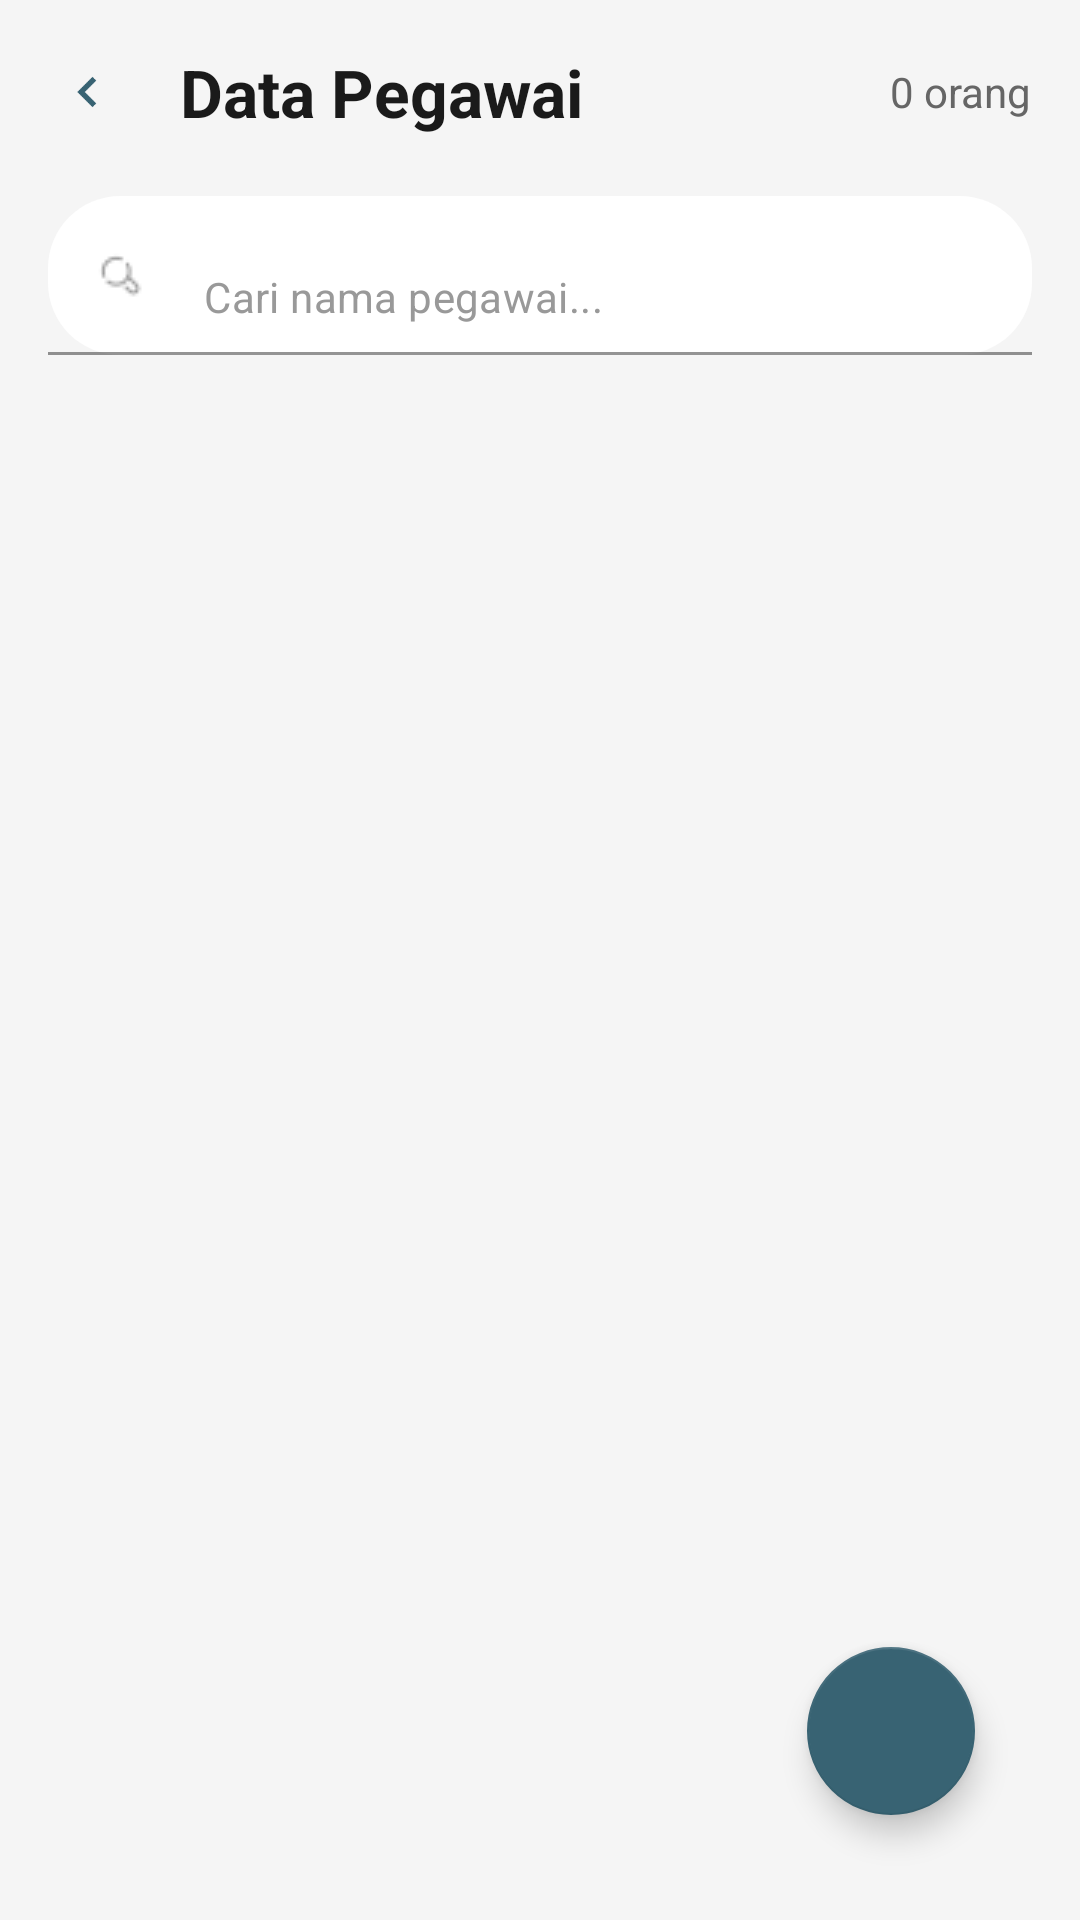

Where to tap for icons on this 1080x1920 app screen, as (x,y):
Kembali: (86,92)
